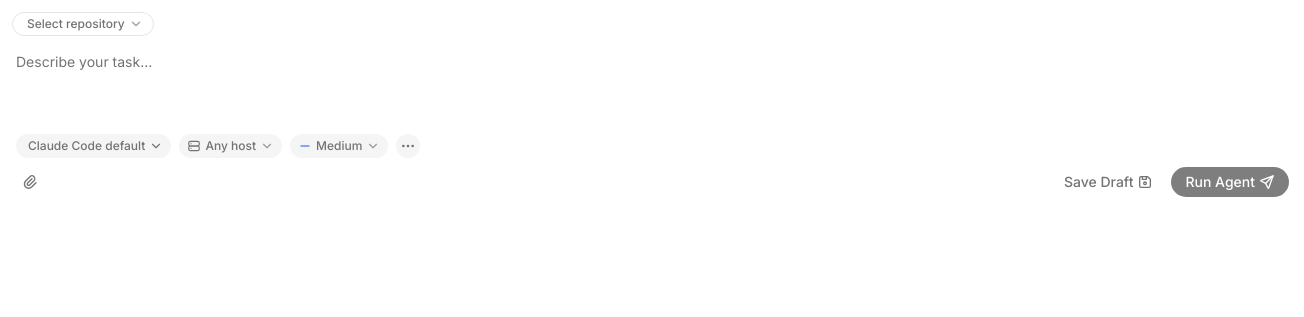
IssueCreateForm › returns a pinned issue to the shared queue with Any host
This screenshot has width=1304, height=317.
Click the button with aria-label "Choose host": (231, 146) x1=179 y1=134 x2=282 y2=158
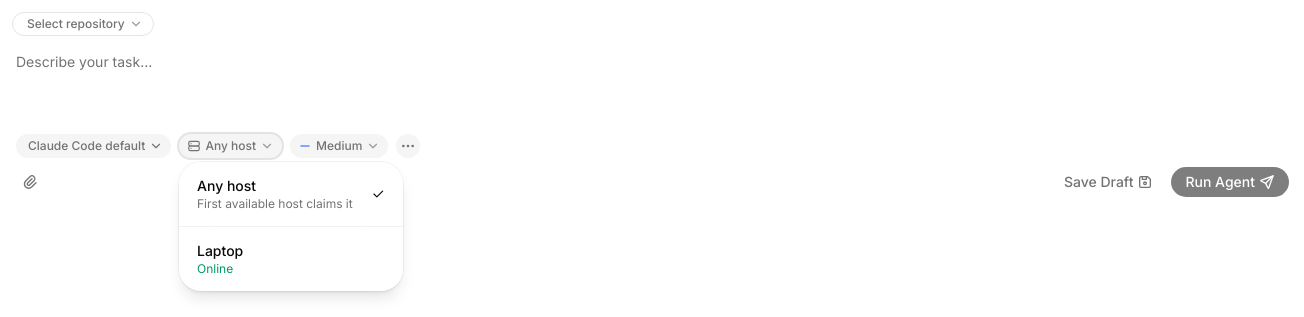
Click the menu item "Laptop Online": (220, 259) x1=197 y1=242 x2=243 y2=276
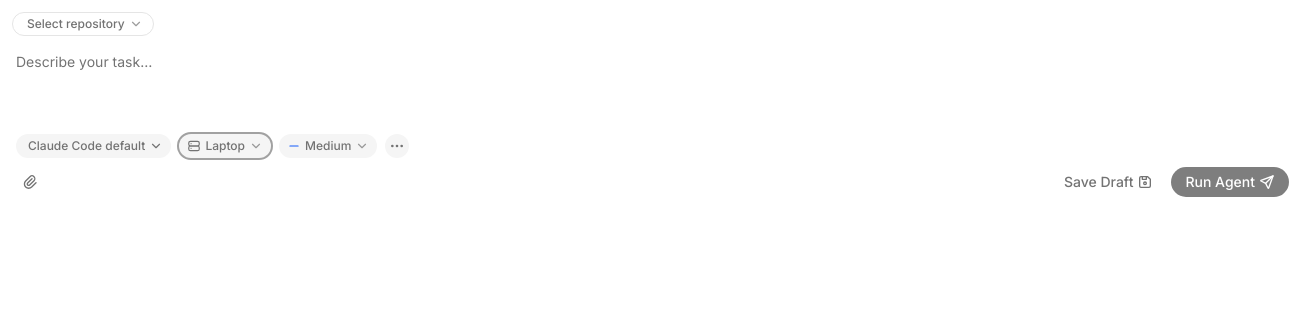
Click the button with aria-label "Choose host": (225, 146) x1=179 y1=134 x2=271 y2=158
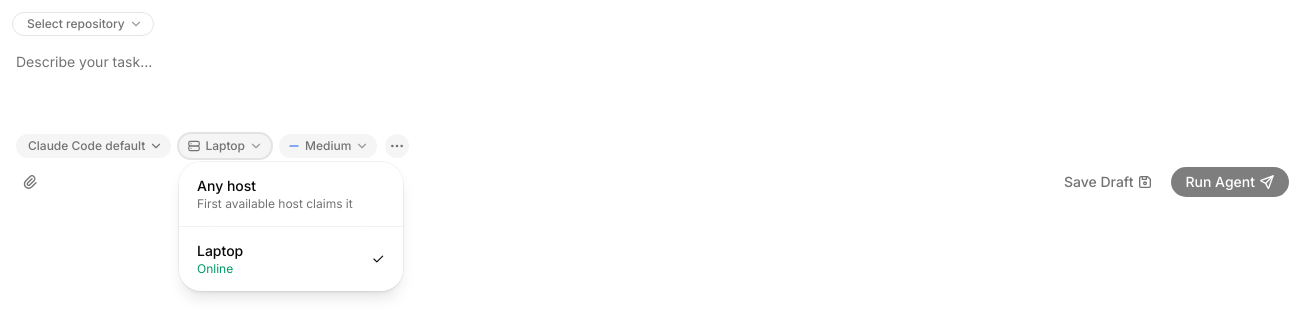
Click the menu item "Any host First available host claims it": (275, 194) x1=197 y1=177 x2=353 y2=211
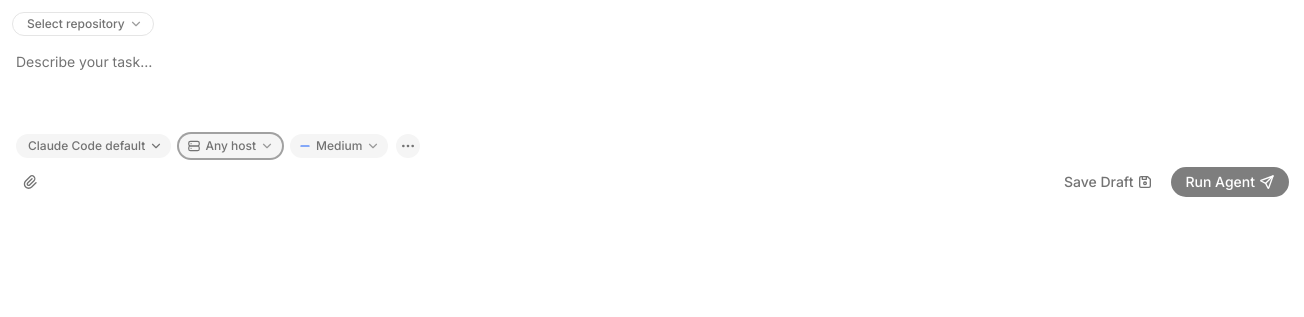
Expected: the form named "pinned_host_id" is empty, x1=12 y1=12 x2=1292 y2=198
Result: the button with aria-label "Choose host" reads "Any host" at x1=179 y1=134 x2=282 y2=158
